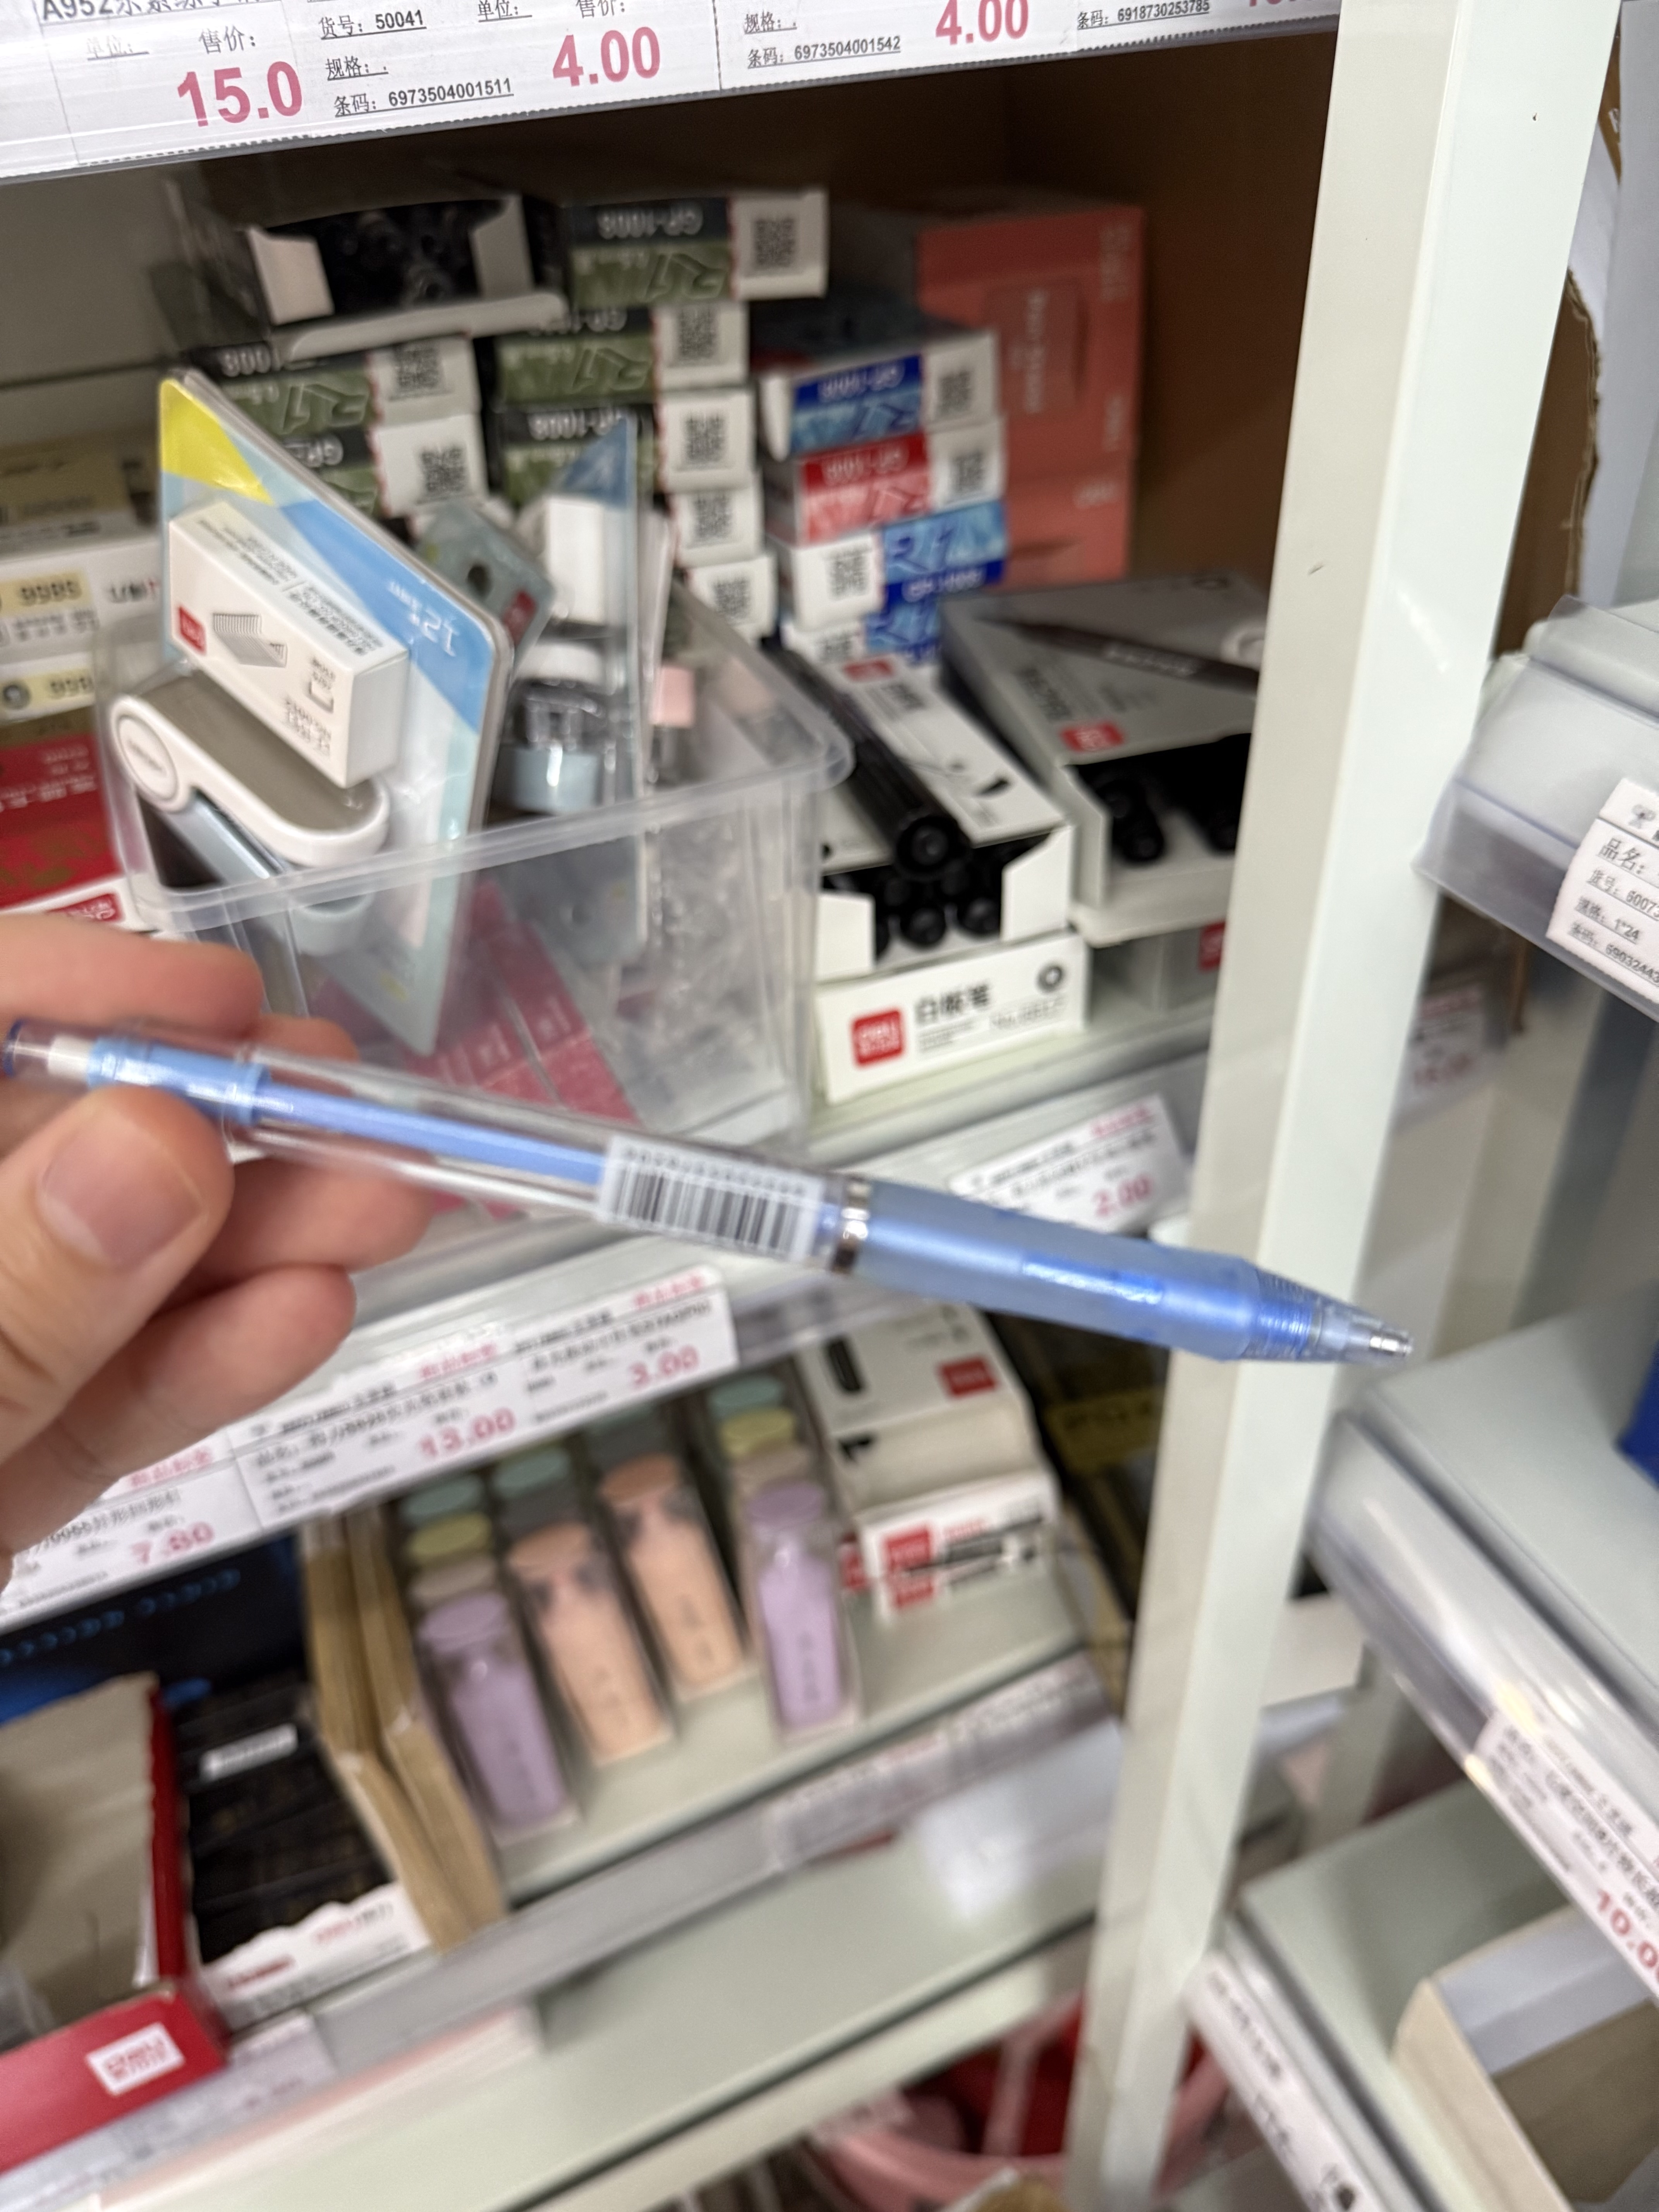bar: (603, 1162, 805, 1268)
